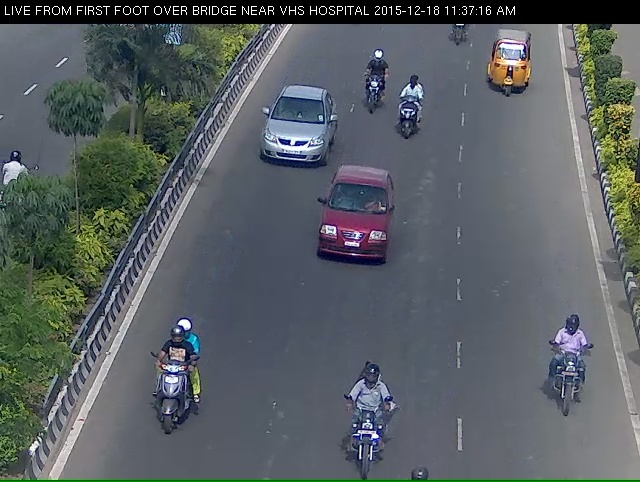Car: (240, 90, 328, 186), (327, 182, 398, 291), (487, 33, 547, 115)
Person: (534, 335, 609, 457), (133, 341, 198, 468), (328, 394, 414, 482), (387, 78, 425, 159), (339, 53, 380, 127)
